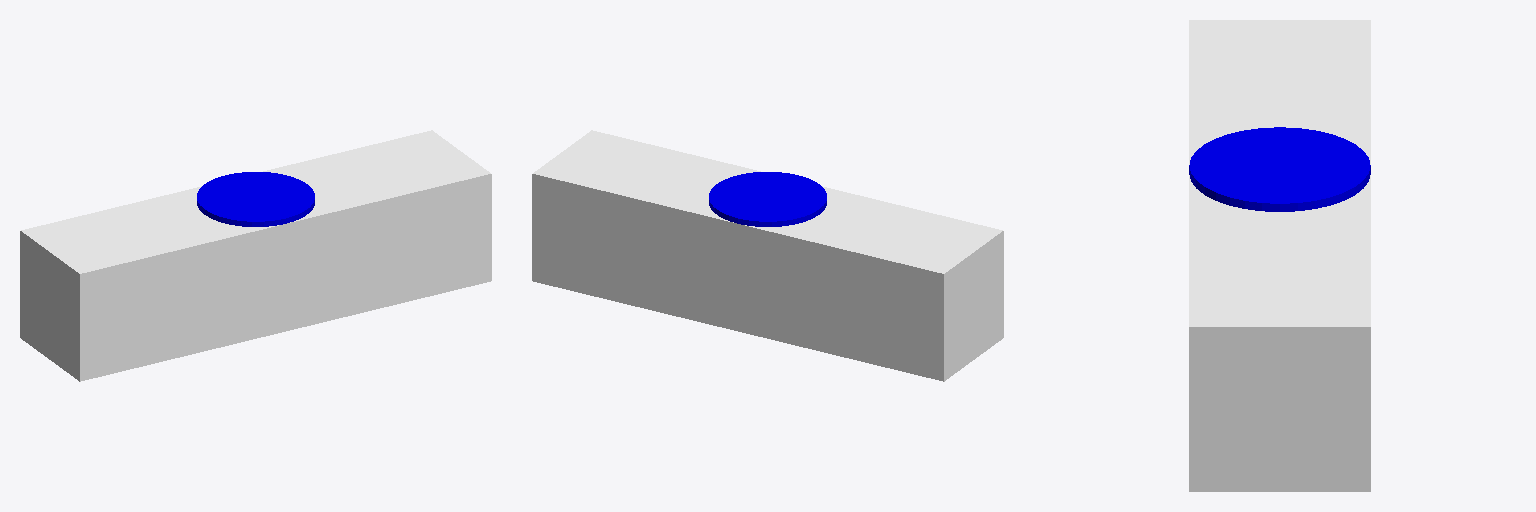
URDF robot description (camera):
<?xml version="1.0" ?>
<robot name="camera">
  <link name="baseLink">
    <contact>
      <lateral_friction value="1.0"/>
      <rolling_friction value="0.0"/>
      <contact_cfm value="0.0"/>
      <contact_erp value="1.0"/>
    </contact>
    <inertial>
      <origin rpy="0 0 0" xyz="0 0 0"/>
       <mass value="1.0"/>
       <inertia ixx="1" ixy="0" ixz="0" iyy="1" iyz="0" izz="1"/>
    </inertial>
    <visual>
      <origin rpy="0 0 0" xyz="0.0 0.0 -0.05"/>
      <geometry>
				<box size="0.4 0.1 0.1"/>
      </geometry>
       <material name="white">
        <color rgba="1 1 1 1"/>
      </material>
    </visual>

  </link>
 <joint name="camera_trafo" type="fixed">
		<parent link="baseLink"/>
		<child link="camera_frame"/>
		<origin xyz="0 0.0 0" rpy="0 0 0"/>
	</joint> 

    <link name="camera_frame">
    <visual>
			<origin xyz="0 0 0.0" rpy="0 0 0"/>
			<material name="blue">
            <color rgba="0 0.0 1.0 1.0"/>
            </material>
			<geometry>
				<cylinder length="0.01" radius="0.05"/>
			</geometry>
		</visual>
	</link>
</robot>

--- What the picture shows (computed from the rendered views, not written in the file) ---
The picture shows the robot from 3 angles, left to right: view 1: azimuth 30°, elevation 25°; view 2: azimuth 150°, elevation 25°; view 3: azimuth 270°, elevation 25°; orthographic projection.
Model camera with 2 links and 1 joints (1 fixed), rooted at baseLink, posed all joints at 0.
Visible links, largest first — view 1: baseLink, camera_frame; view 2: baseLink, camera_frame; view 3: baseLink, camera_frame.
Boxes of the visible links, x1,y1,x2,y2 form: baseLink: (20, 130, 491, 381); camera_frame: (197, 172, 314, 226); baseLink: (532, 130, 1003, 381); camera_frame: (709, 172, 826, 226); baseLink: (1189, 20, 1370, 491); camera_frame: (1189, 127, 1370, 211).
Size in the robot's own frame: 0.4 by 0.1 by 0.105 metres.
Geometry: primitives only (box / cylinder / sphere), no mesh files.